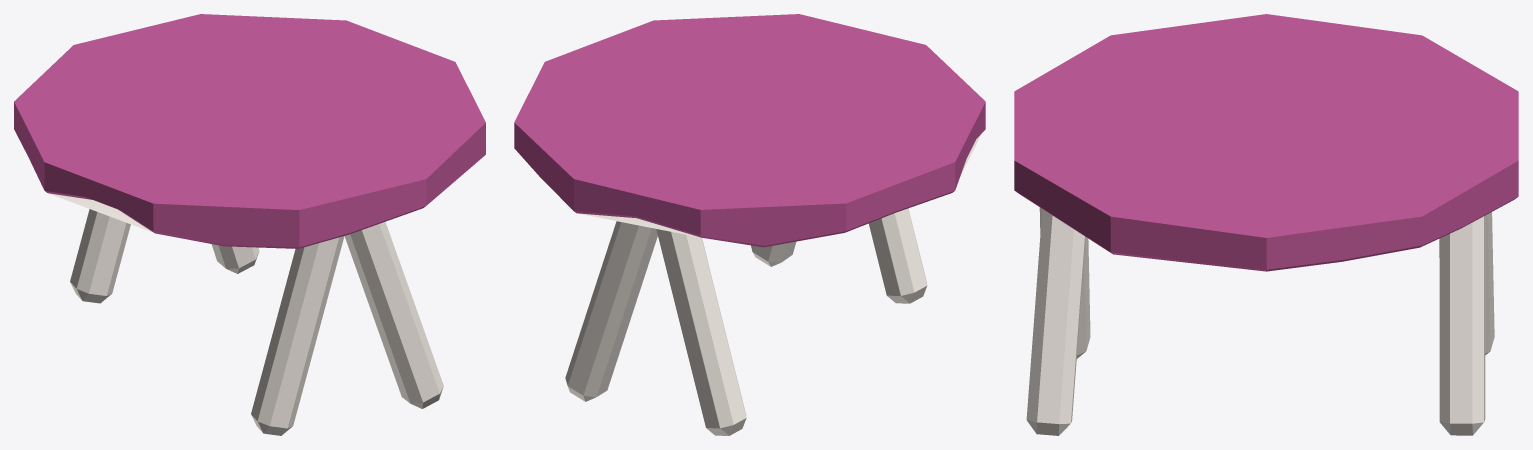
Rendered from Table color.fbx.
3 renders of one model, left to right at view 1: azimuth 30°, elevation 25°; view 2: azimuth 150°, elevation 25°; view 3: azimuth 270°, elevation 25°, orthographic. The views are drawn at different scales.
Parts seen in each view (by area): view 1: pCylinder2.001, pCylinder2.002, pCylinder2.003, pCylinder2; view 2: pCylinder2.001, pCylinder2.002, pCylinder2, pCylinder2.003; view 3: pCylinder2.001, pCylinder2.002, pCylinder2.
Part boxes in pixels (bbox=[...]): pCylinder2.001: bbox=[14, 14, 485, 247]; pCylinder2.002: bbox=[70, 209, 443, 435]; pCylinder2.003: bbox=[48, 193, 153, 232]; pCylinder2: bbox=[45, 191, 425, 248]; pCylinder2.001: bbox=[514, 14, 985, 245]; pCylinder2.002: bbox=[565, 208, 927, 435]; pCylinder2: bbox=[574, 191, 954, 435]; pCylinder2.003: bbox=[577, 134, 981, 237]; pCylinder2.001: bbox=[1014, 14, 1518, 269]; pCylinder2.002: bbox=[1026, 207, 1494, 435]; pCylinder2: bbox=[1017, 192, 1517, 271].
Size of the model in its own units: 154 by 85.82 by 146.
